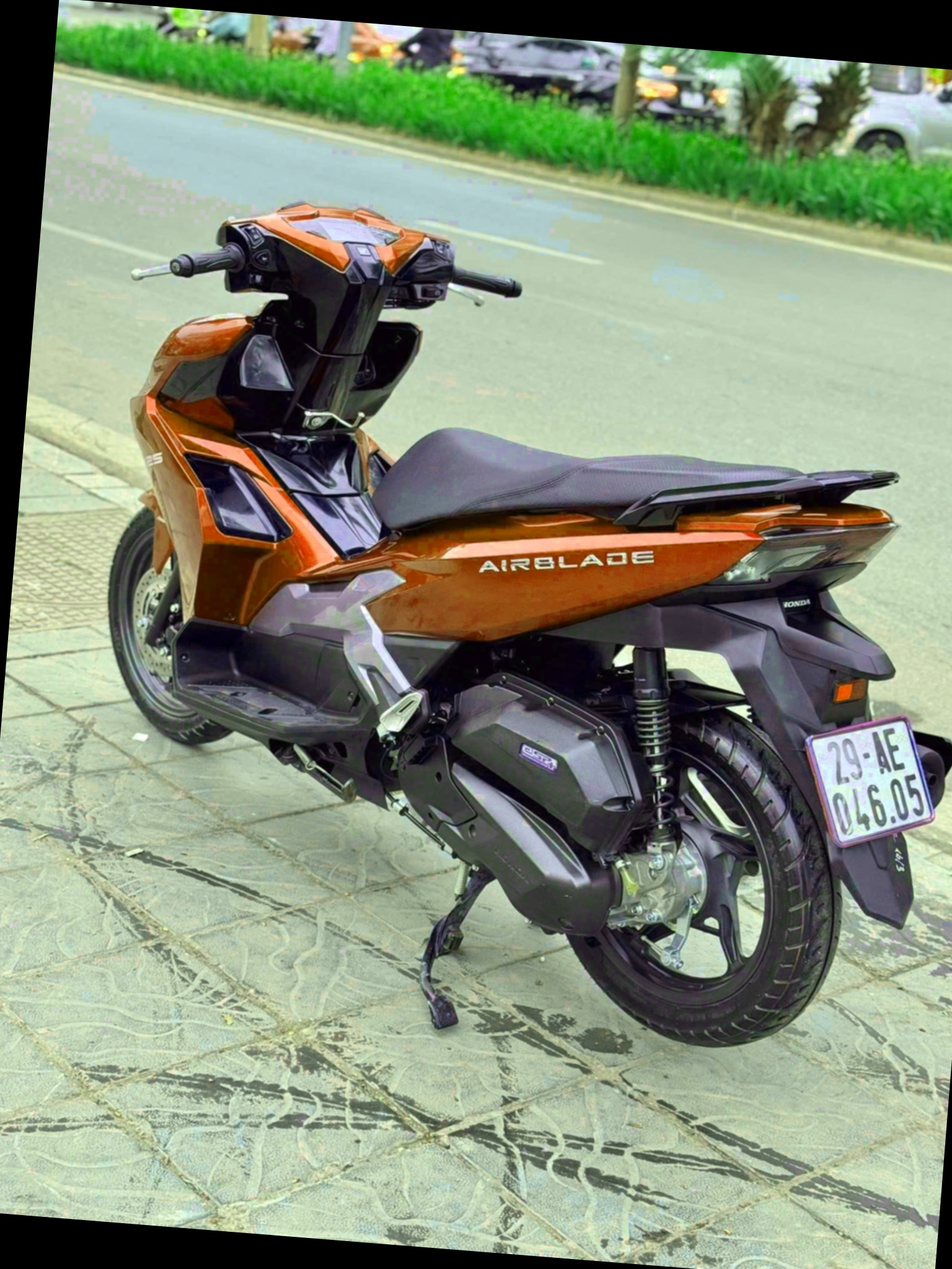Bien-so: (791, 731, 926, 875)
